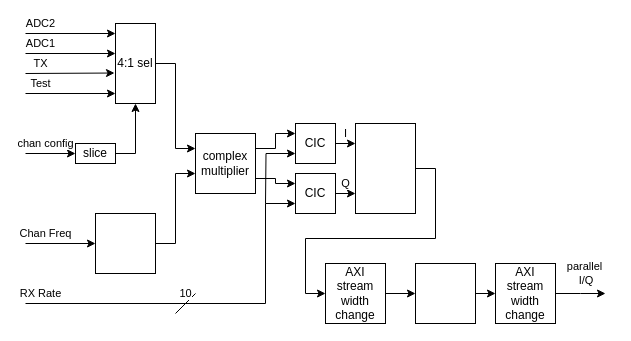
Image size: 631x341. Some labels were removed from this diagram. The shapes that lost their labels are listed below. From the top down, each one's centre as x and y in pixels, then its label:
the point at 385,168: AXI stream combiner
the point at 125,243: streaming DDS
the point at 445,293: Decimate by 8 FIFO
